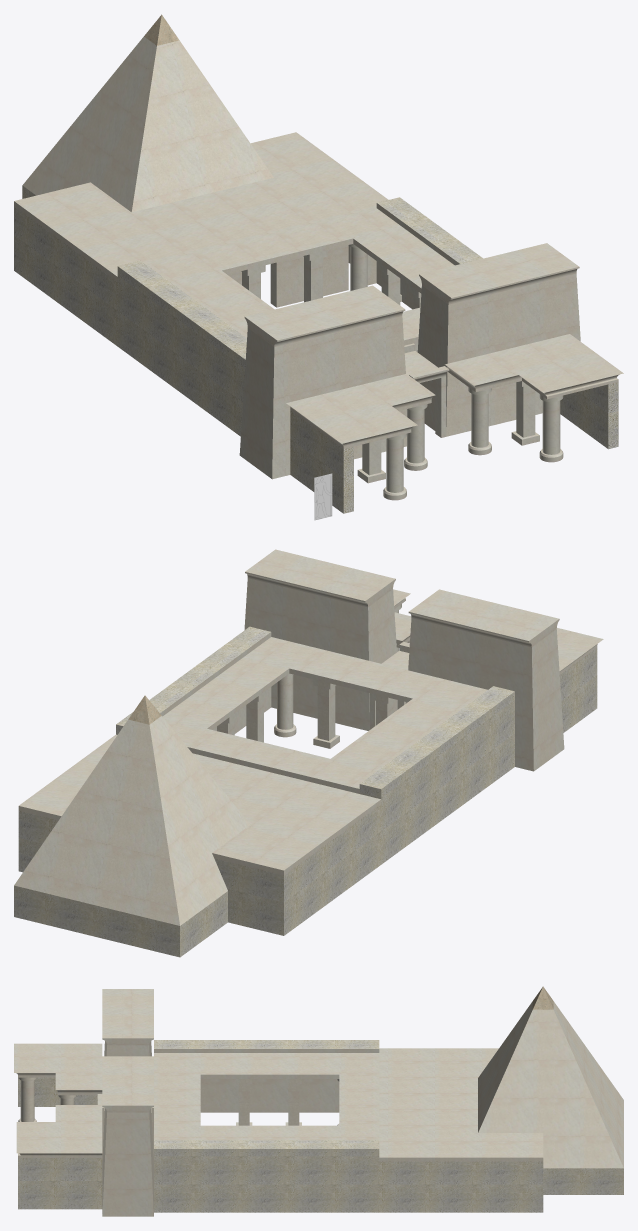
File: Amenenome_ST101.glb
3 renders of one model, top to bottom at view 1: azimuth 30°, elevation 25°; view 2: azimuth 150°, elevation 25°; view 3: azimuth 270°, elevation 25°, orthographic. The views are drawn at different scales.
Parts seen in each view (by area): view 1: Mesh32 total1 Model, Mesh1 ROOF1 Model, Mesh35 Model, Mesh3 Component_1_1 Model, Mesh2 Component_1_1 Model, Mesh33 Model, Mesh34 Model, Mesh23 pylongateway1 total1 Model, Mesh7 Round_Column1 total1 Model, Mesh5 Square_Column2 total1 Model, Mesh9 Round_Column3 total1 Model, Mesh28 Round_Column7 total1 Model (+5 smaller); view 2: Mesh32 total1 Model, Mesh35 Model, Mesh1 ROOF1 Model, Mesh33 Model, Mesh34 Model, Mesh11 Square_Column4 total1 Model, Mesh2 Component_1_1 Model, Mesh8 Round_Column2 total1 Model, Mesh13 Square_Column6 total1 Model, Mesh23 pylongateway1 total1 Model, Mesh3 Component_1_1 Model; view 3: Mesh32 total1 Model, Mesh1 ROOF1 Model, Mesh35 Model, Mesh3 Component_1_1 Model, Mesh2 Component_1_1 Model, Mesh34 Model, Mesh33 Model, Mesh28 Round_Column7 total1 Model, Mesh16 Square_Column7 total1 Model, Mesh21 Square_Column11 total1 Model.
Boxes of the visible parts, left/top/right/bottom form: Mesh32 total1 Model: left=14, top=197, right=618, bottom=513; Mesh1 ROOF1 Model: left=14, top=132, right=454, bottom=345; Mesh35 Model: left=22, top=14, right=273, bottom=212; Mesh3 Component_1_1 Model: left=445, top=334, right=623, bottom=399; Mesh2 Component_1_1 Model: left=286, top=374, right=435, bottom=448; Mesh33 Model: left=244, top=285, right=405, bottom=346; Mesh34 Model: left=419, top=243, right=579, bottom=304; Mesh23 pylongateway1 total1 Model: left=404, top=343, right=449, bottom=437; Mesh7 Round_Column1 total1 Model: left=539, top=394, right=563, bottom=462; Mesh5 Square_Column2 total1 Model: left=511, top=381, right=539, bottom=445; Mesh9 Round_Column3 total1 Model: left=468, top=387, right=491, bottom=455; Mesh28 Round_Column7 total1 Model: left=383, top=433, right=406, bottom=500; Mesh32 total1 Model: left=18, top=578, right=597, bottom=935; Mesh35 Model: left=14, top=695, right=250, bottom=957; Mesh1 ROOF1 Model: left=18, top=637, right=487, bottom=875; Mesh33 Model: left=408, top=589, right=559, bottom=647; Mesh34 Model: left=245, top=549, right=395, bottom=607; Mesh11 Square_Column4 total1 Model: left=313, top=679, right=339, bottom=748; Mesh2 Component_1_1 Model: left=556, top=628, right=603, bottom=674; Mesh8 Round_Column2 total1 Model: left=274, top=673, right=296, bottom=737; Mesh13 Square_Column6 total1 Model: left=246, top=689, right=268, bottom=742; Mesh23 pylongateway1 total1 Model: left=370, top=641, right=409, bottom=729; Mesh3 Component_1_1 Model: left=393, top=589, right=411, bottom=647; Mesh32 total1 Model: left=18, top=1040, right=543, bottom=1216; Mesh1 ROOF1 Model: left=154, top=1048, right=543, bottom=1161; Mesh35 Model: left=478, top=986, right=623, bottom=1194; Mesh3 Component_1_1 Model: left=16, top=1105, right=102, bottom=1157; Mesh2 Component_1_1 Model: left=14, top=1043, right=102, bottom=1095; Mesh34 Model: left=102, top=1056, right=153, bottom=1112; Mesh33 Model: left=102, top=989, right=153, bottom=1045; Mesh28 Round_Column7 total1 Model: left=18, top=1077, right=36, bottom=1121; Mesh16 Square_Column7 total1 Model: left=236, top=1079, right=252, bottom=1125; Mesh21 Square_Column11 total1 Model: left=285, top=1079, right=301, bottom=1125.
Size of the model in its own units: 12.61 by 8.22 by 26.04.
Materials: 6 (4 with a texture image).
